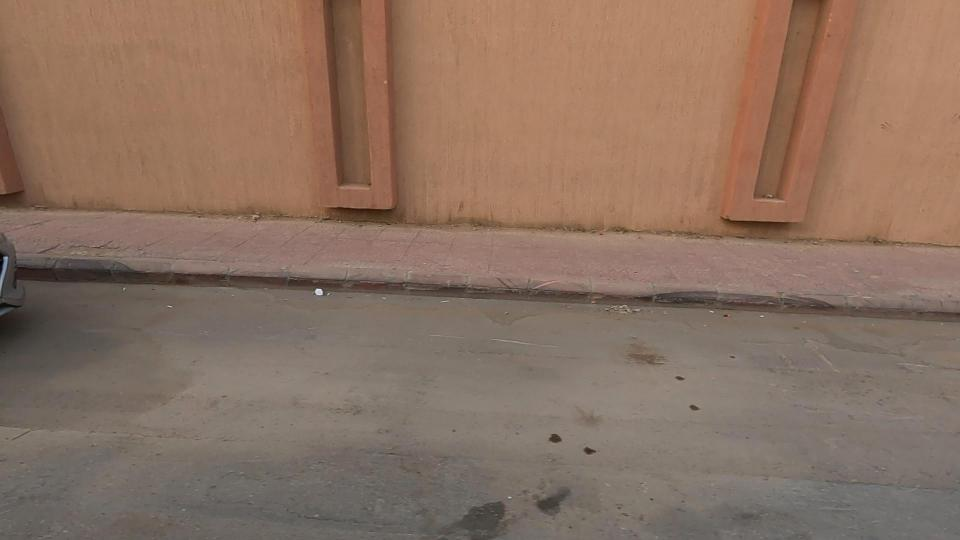GARBAGE: (269, 255, 360, 328)
